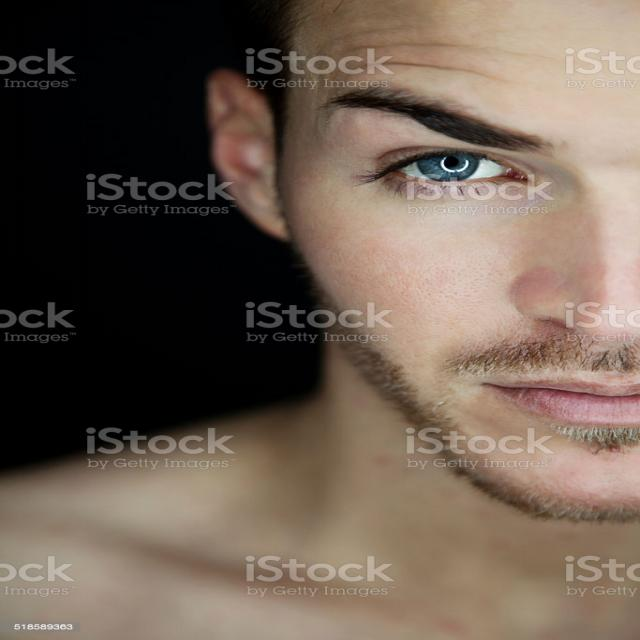earlobe: (204, 69, 294, 243)
